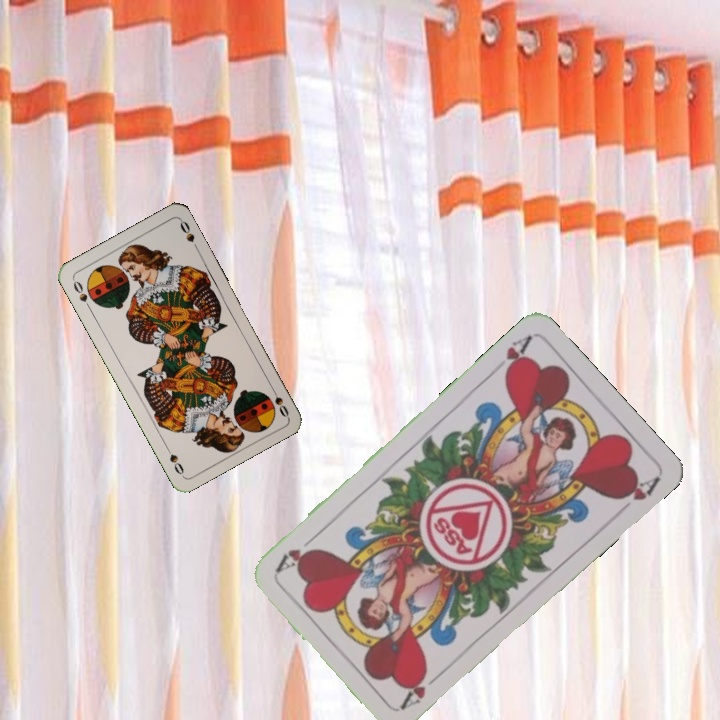HA: (487, 332, 534, 380), (397, 666, 446, 712)
SO: (266, 381, 291, 420), (69, 275, 94, 313)
